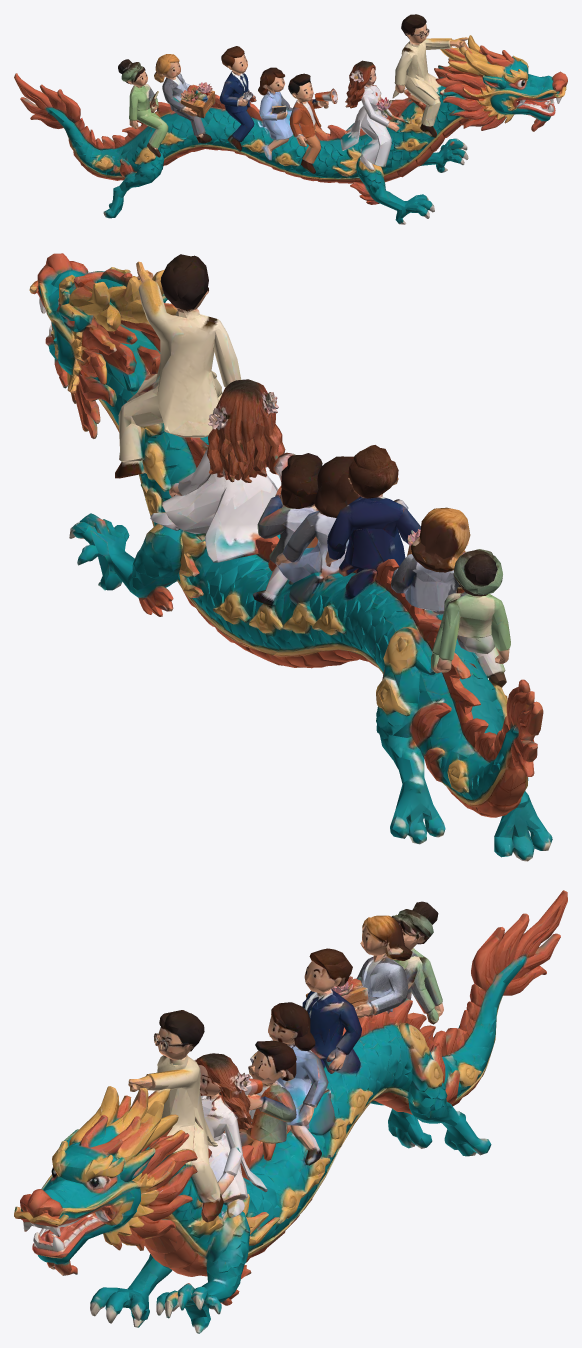
File: rong-bay-doi-bizon-v2.glb
3 views of the same model, one above another, from view 1: azimuth 30°, elevation 25°; view 2: azimuth 150°, elevation 25°; view 3: azimuth 270°, elevation 25° (orthographic). The views are drawn at different scales.
Parts seen in each view (by area): view 1: output_unwrapped; view 2: output_unwrapped; view 3: output_unwrapped.
Part boxes in pixels (x1,y1,x2,y2): output_unwrapped: [14, 14, 567, 224]; output_unwrapped: [29, 253, 552, 861]; output_unwrapped: [14, 890, 567, 1333].
Bounding box in the file's own units: 1.9 × 0.8799 × 1.32.
Materials: 1 (1 with a texture image).
